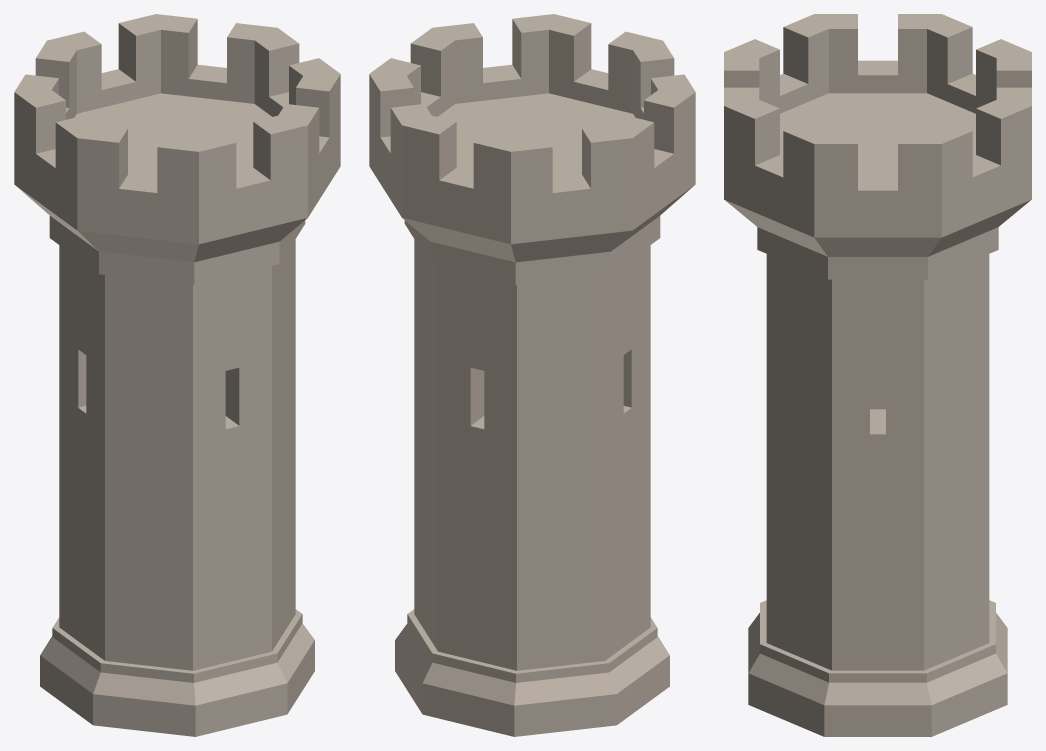
File: SPW_Medieval_Castle_Tower.glb
The picture shows the model from 3 angles, left to right: view 1: azimuth 30°, elevation 25°; view 2: azimuth 150°, elevation 25°; view 3: azimuth 270°, elevation 25°; orthographic projection.
Parts seen in each view (by area): view 1: SPW_Medieval_Castle_Tower; view 2: SPW_Medieval_Castle_Tower; view 3: SPW_Medieval_Castle_Tower.
Part boxes in pixels (x1,y1,x2,y2): SPW_Medieval_Castle_Tower: (14, 14, 340, 736); SPW_Medieval_Castle_Tower: (369, 14, 695, 736); SPW_Medieval_Castle_Tower: (724, 14, 1031, 736).
Bounding box in the file's own units: 3.78 × 8.16 × 3.78.
Materials: 1 (1 with a texture image).
